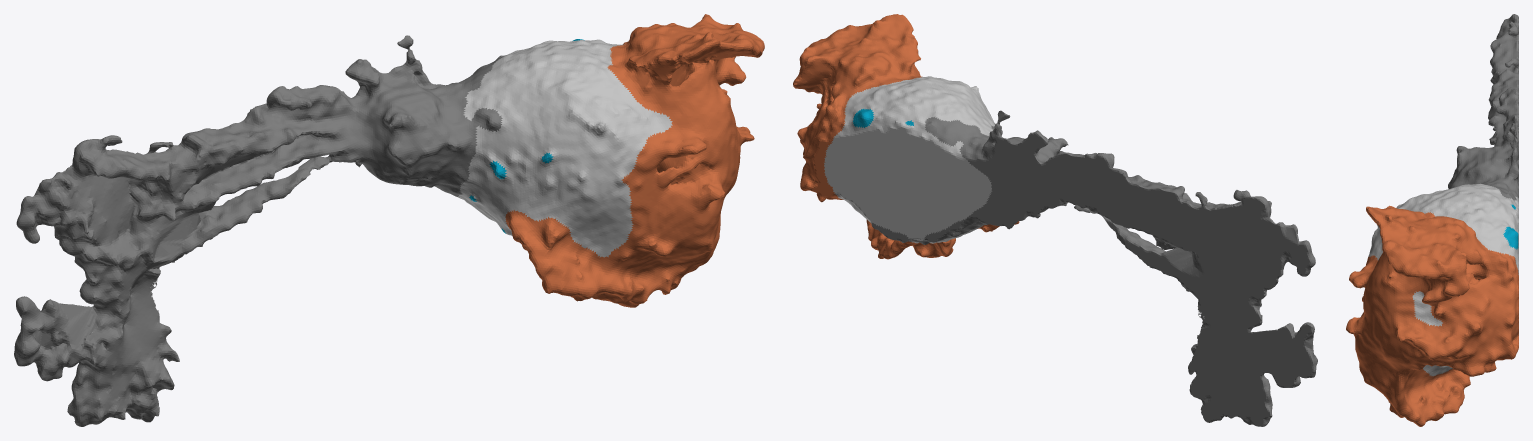
3 renders of one model, left to right at view 1: azimuth 30°, elevation 25°; view 2: azimuth 150°, elevation 25°; view 3: azimuth 270°, elevation 25°, orthographic. The views are drawn at different scales.
Size of the model in its own units: 285 by 130 by 74.08.
